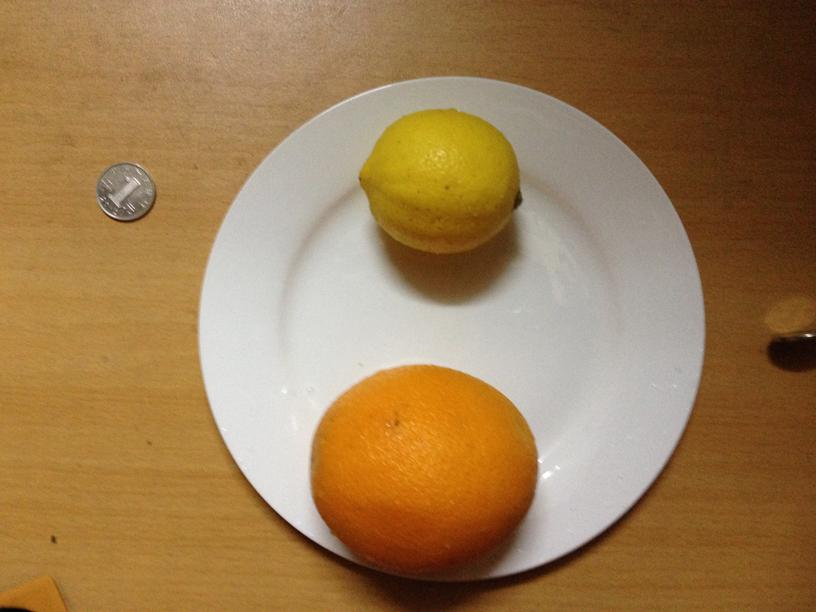coin: (97, 162, 155, 221)
lemon: (361, 108, 521, 253)
orange: (309, 366, 537, 571)
